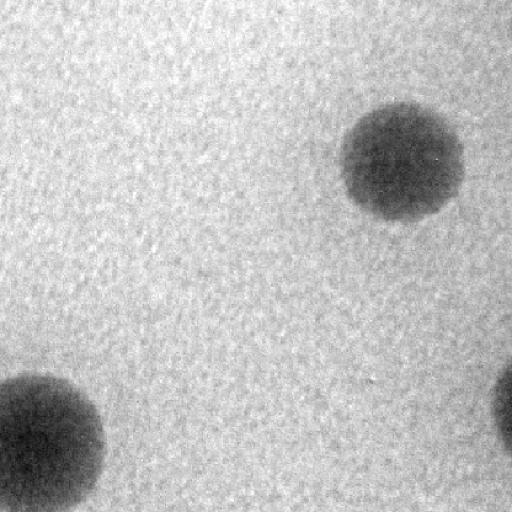Nanoparticles: (1, 370, 111, 512), (338, 102, 462, 224), (487, 360, 512, 446)
